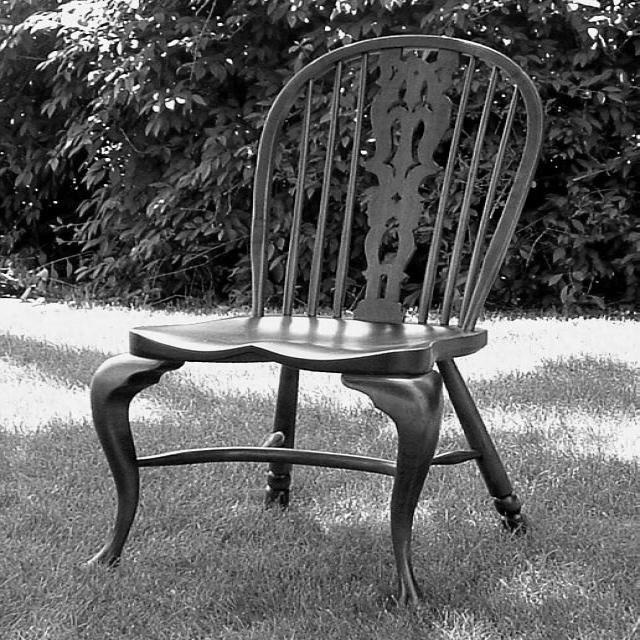chair: (80, 34, 534, 612)
